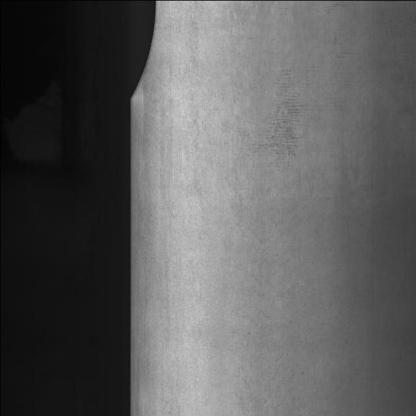crescent_gap: (124, 0, 166, 112)
